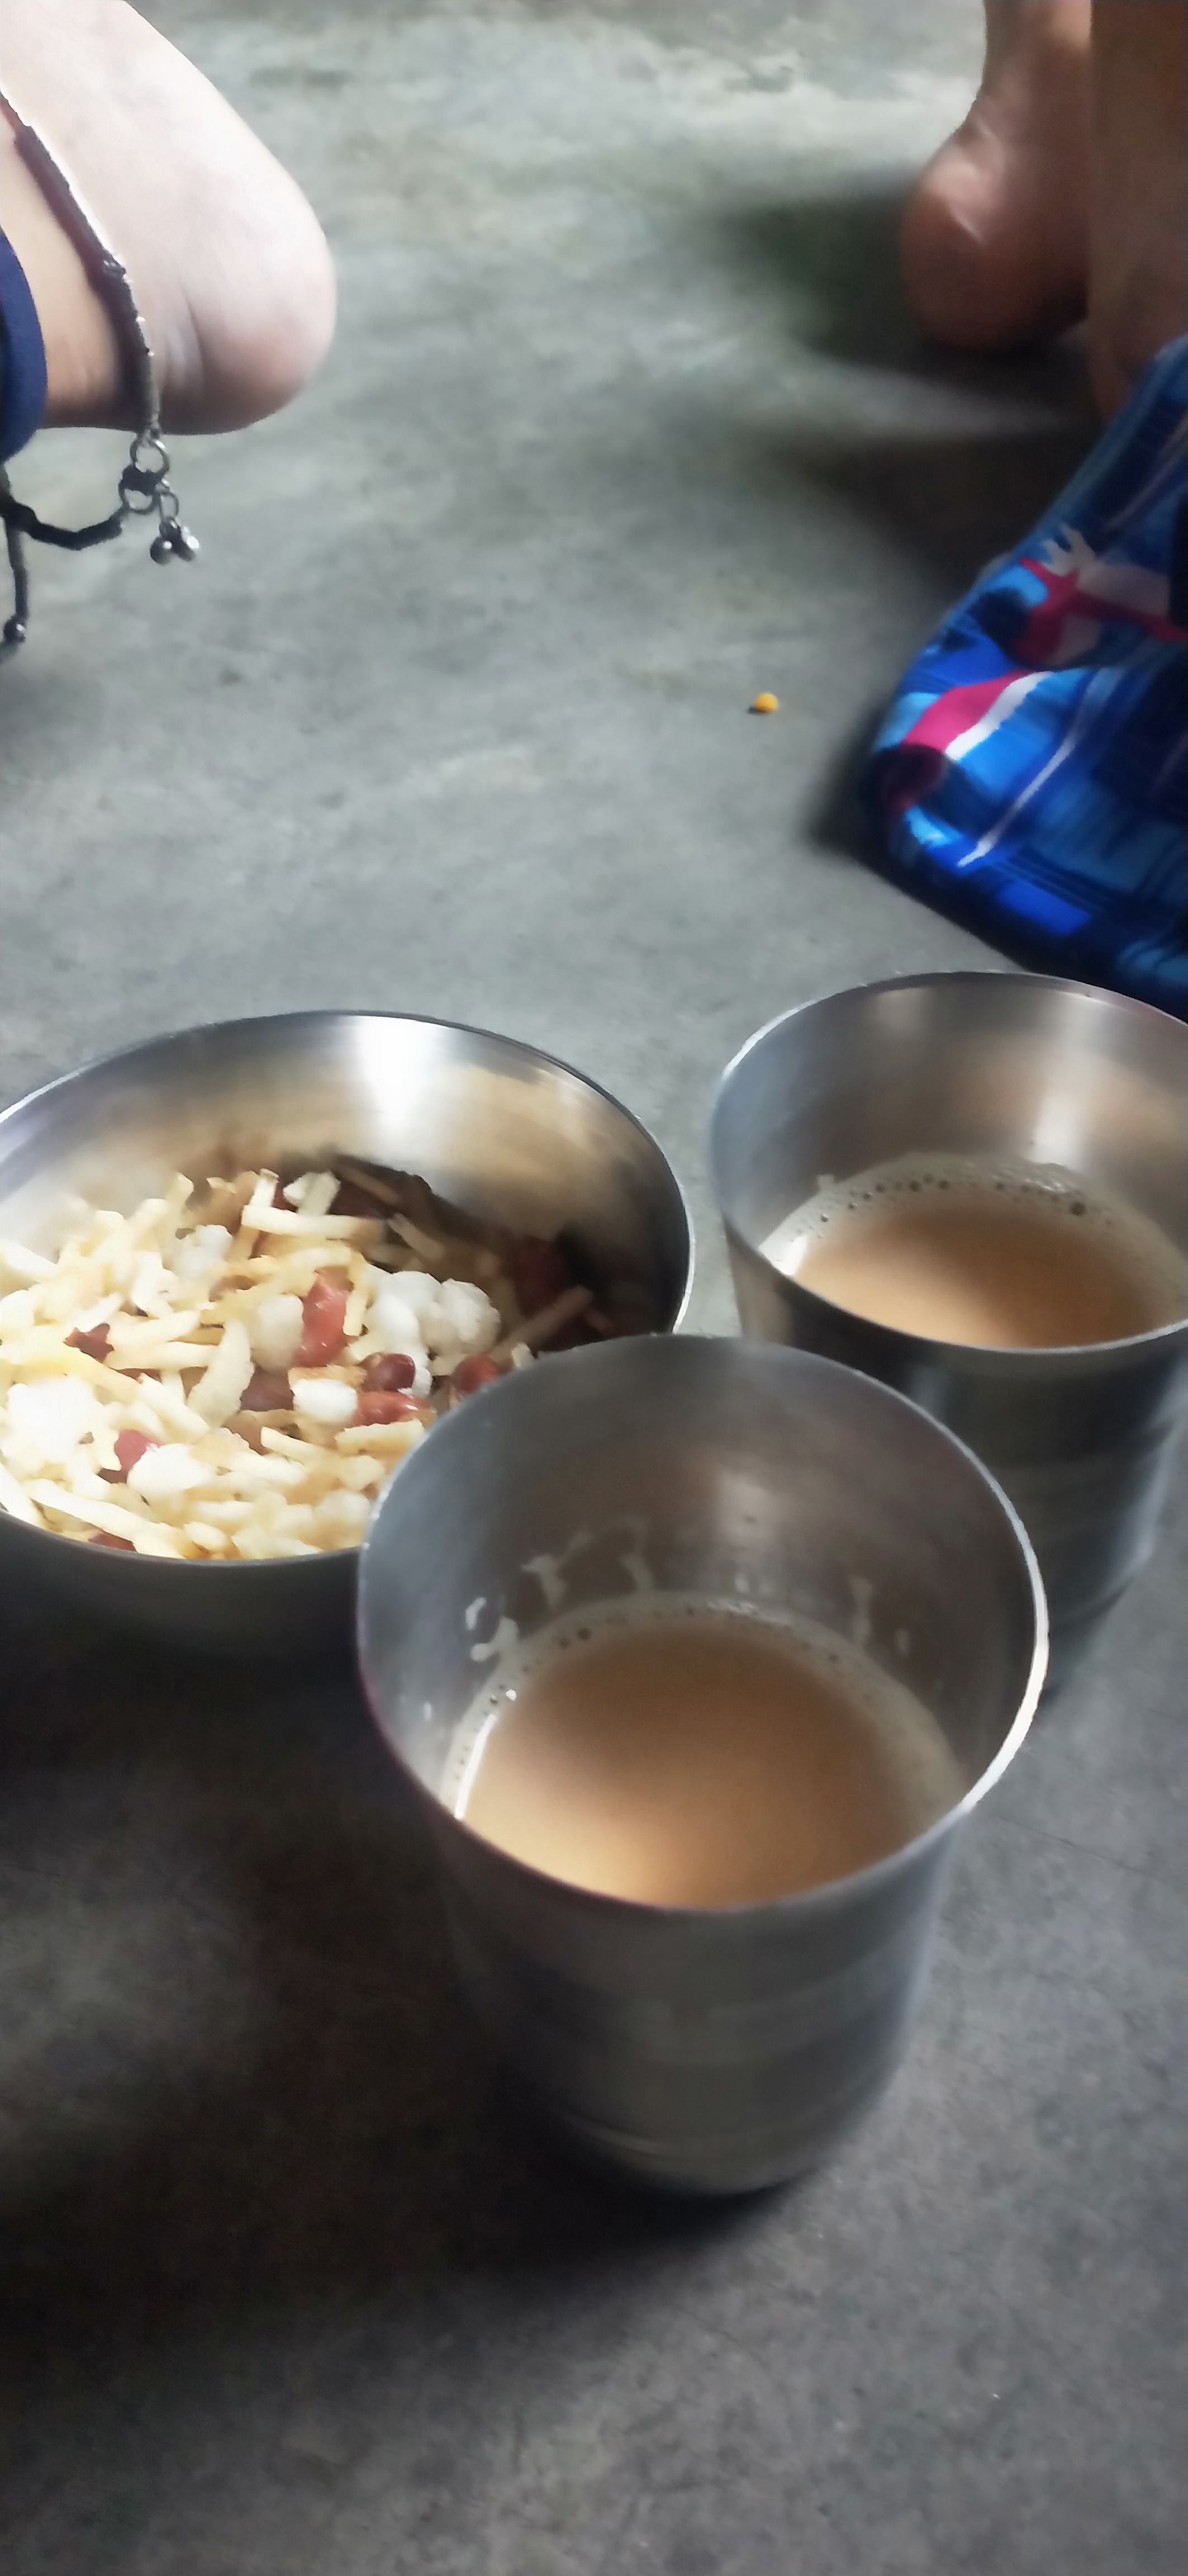food: (347, 1329, 1060, 1916), (0, 1140, 687, 1566), (708, 964, 1188, 1388)
